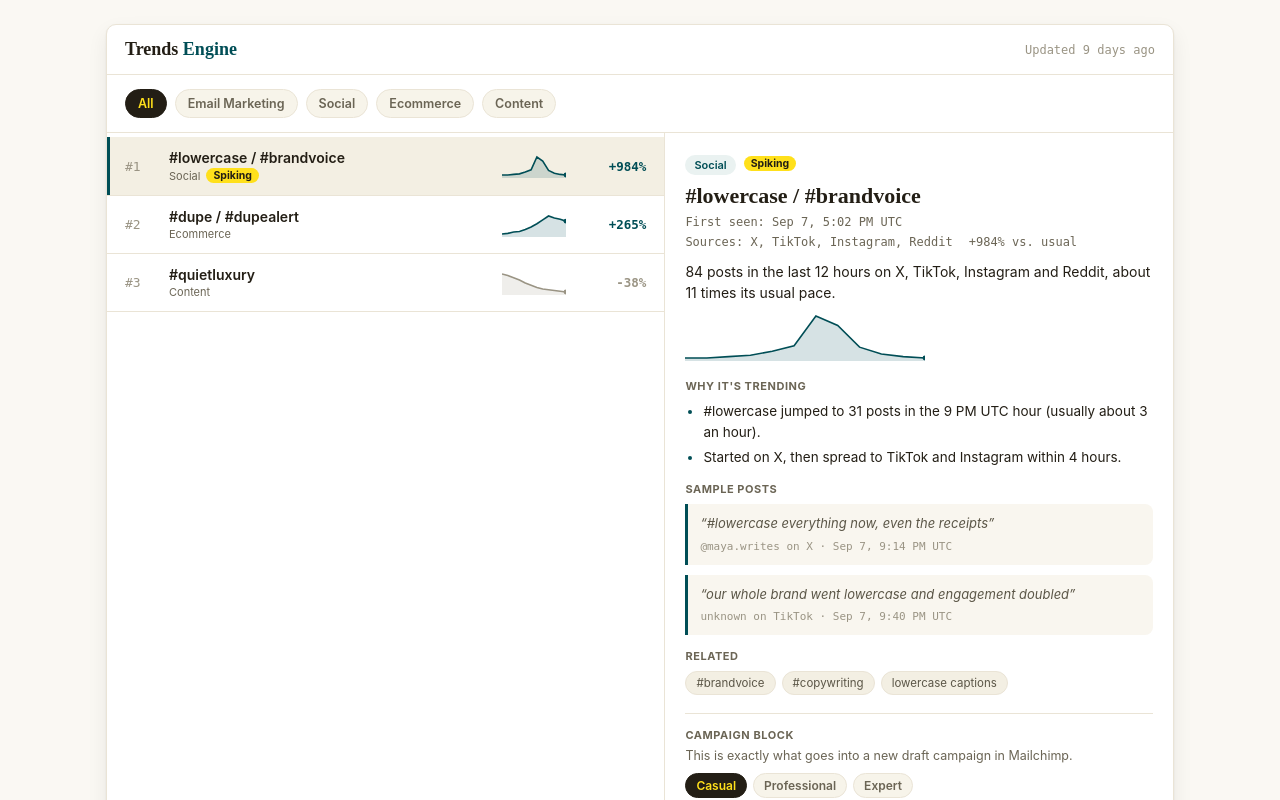
it: selecting a row shows that trend
Check: the heading "#lowercase / #brandvoice" is shown, box top-left (685, 183), bottom-right (921, 208)
Click the button "#2 #dupe / #dupealert Ecommerce +265%" at (234, 216), box top-left (107, 196), bottom-right (664, 254)
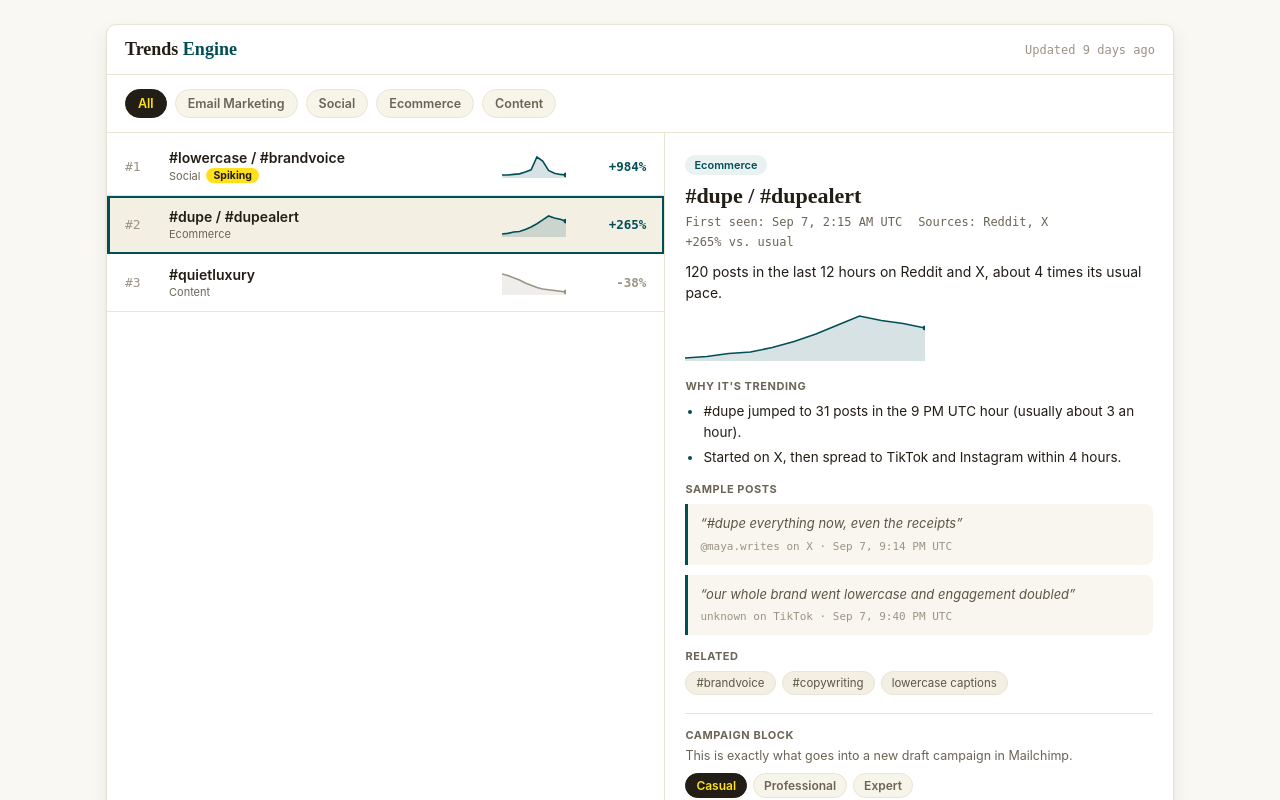
Check: the heading "#dupe / #dupealert" is shown, box top-left (685, 183), bottom-right (861, 208)
